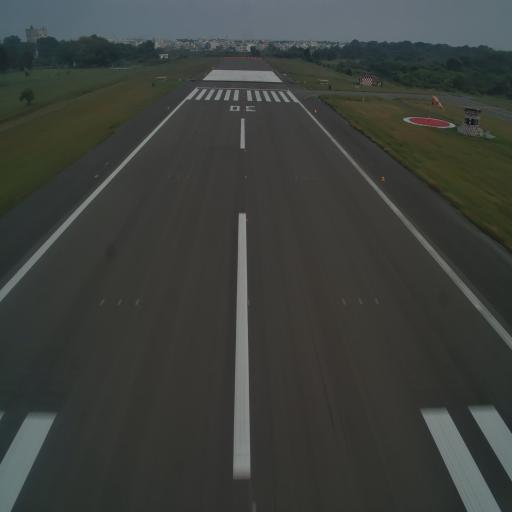off: (134, 295, 140, 310), (357, 295, 364, 307), (374, 295, 380, 308), (117, 296, 123, 306), (103, 159, 110, 167), (100, 297, 105, 308), (342, 297, 347, 307), (304, 175, 308, 182), (176, 173, 180, 179), (168, 173, 171, 180), (295, 176, 299, 181), (312, 176, 316, 181), (186, 174, 189, 180)
on: (246, 296, 252, 310), (243, 172, 248, 181), (381, 175, 386, 183), (244, 216, 248, 224), (244, 147, 247, 153)
